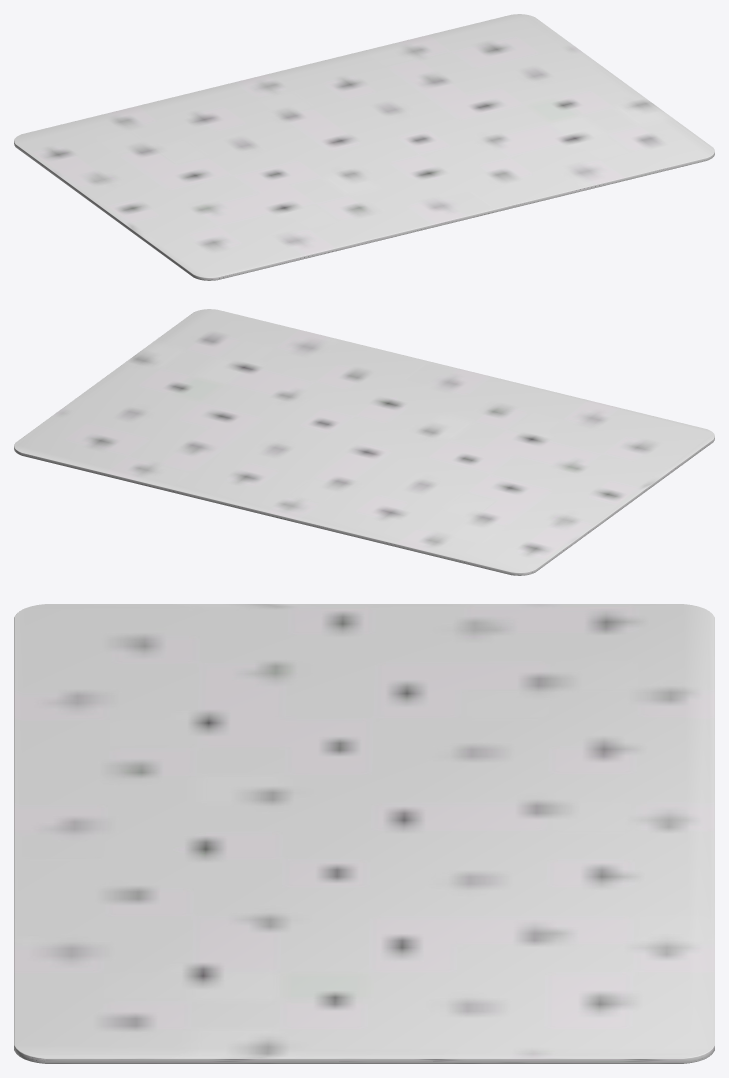
The model's file is baby_mat.glb.
3 views of the same model, one above another, from view 1: azimuth 30°, elevation 25°; view 2: azimuth 150°, elevation 25°; view 3: azimuth 270°, elevation 25° (orthographic). The views are drawn at different scales.
Visible parts, largest first — view 1: BP_유아놀이매트; view 2: BP_유아놀이매트; view 3: BP_유아놀이매트.
Part boxes in pixels (<box>): BP_유아놀이매트: <box>14,14,714,280</box>; BP_유아놀이매트: <box>14,309,714,575</box>; BP_유아놀이매트: <box>14,604,714,1063</box>.
Bounding box in the file's own units: 1.7 × 0.01 × 1.11.
1 material, 1 textured.
